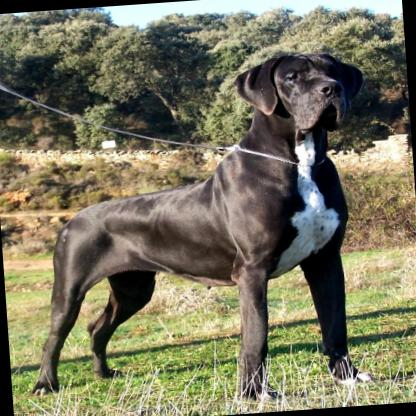Great_Dane: (11, 50, 382, 414)
